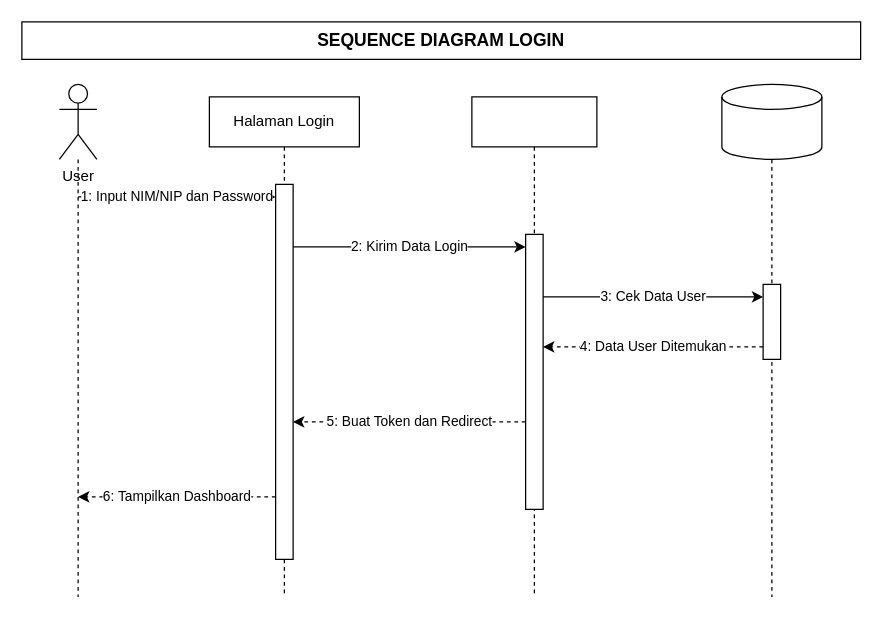
The diagram is 883 pixels wide and 620 high, and some of its shapes have lost their labels. The centre of each missing label's shape, as x and y in pixels:
"Database" goes at [771,121].
"Sistem" goes at [534,121].
